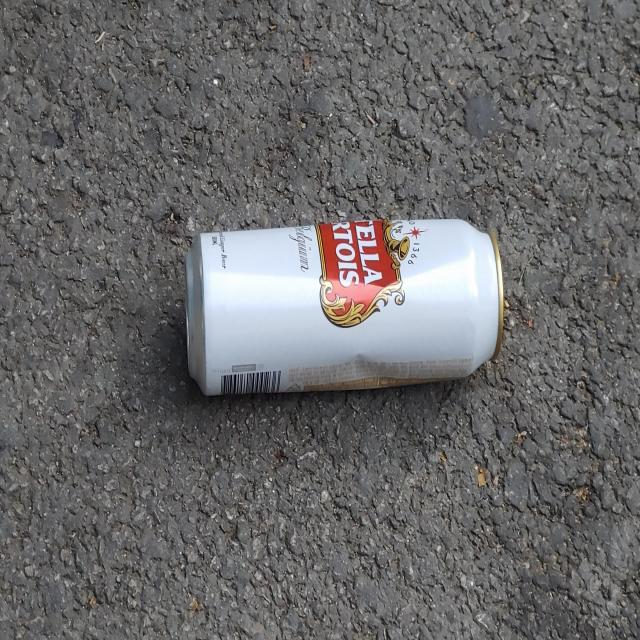can: (185, 218, 504, 396)
